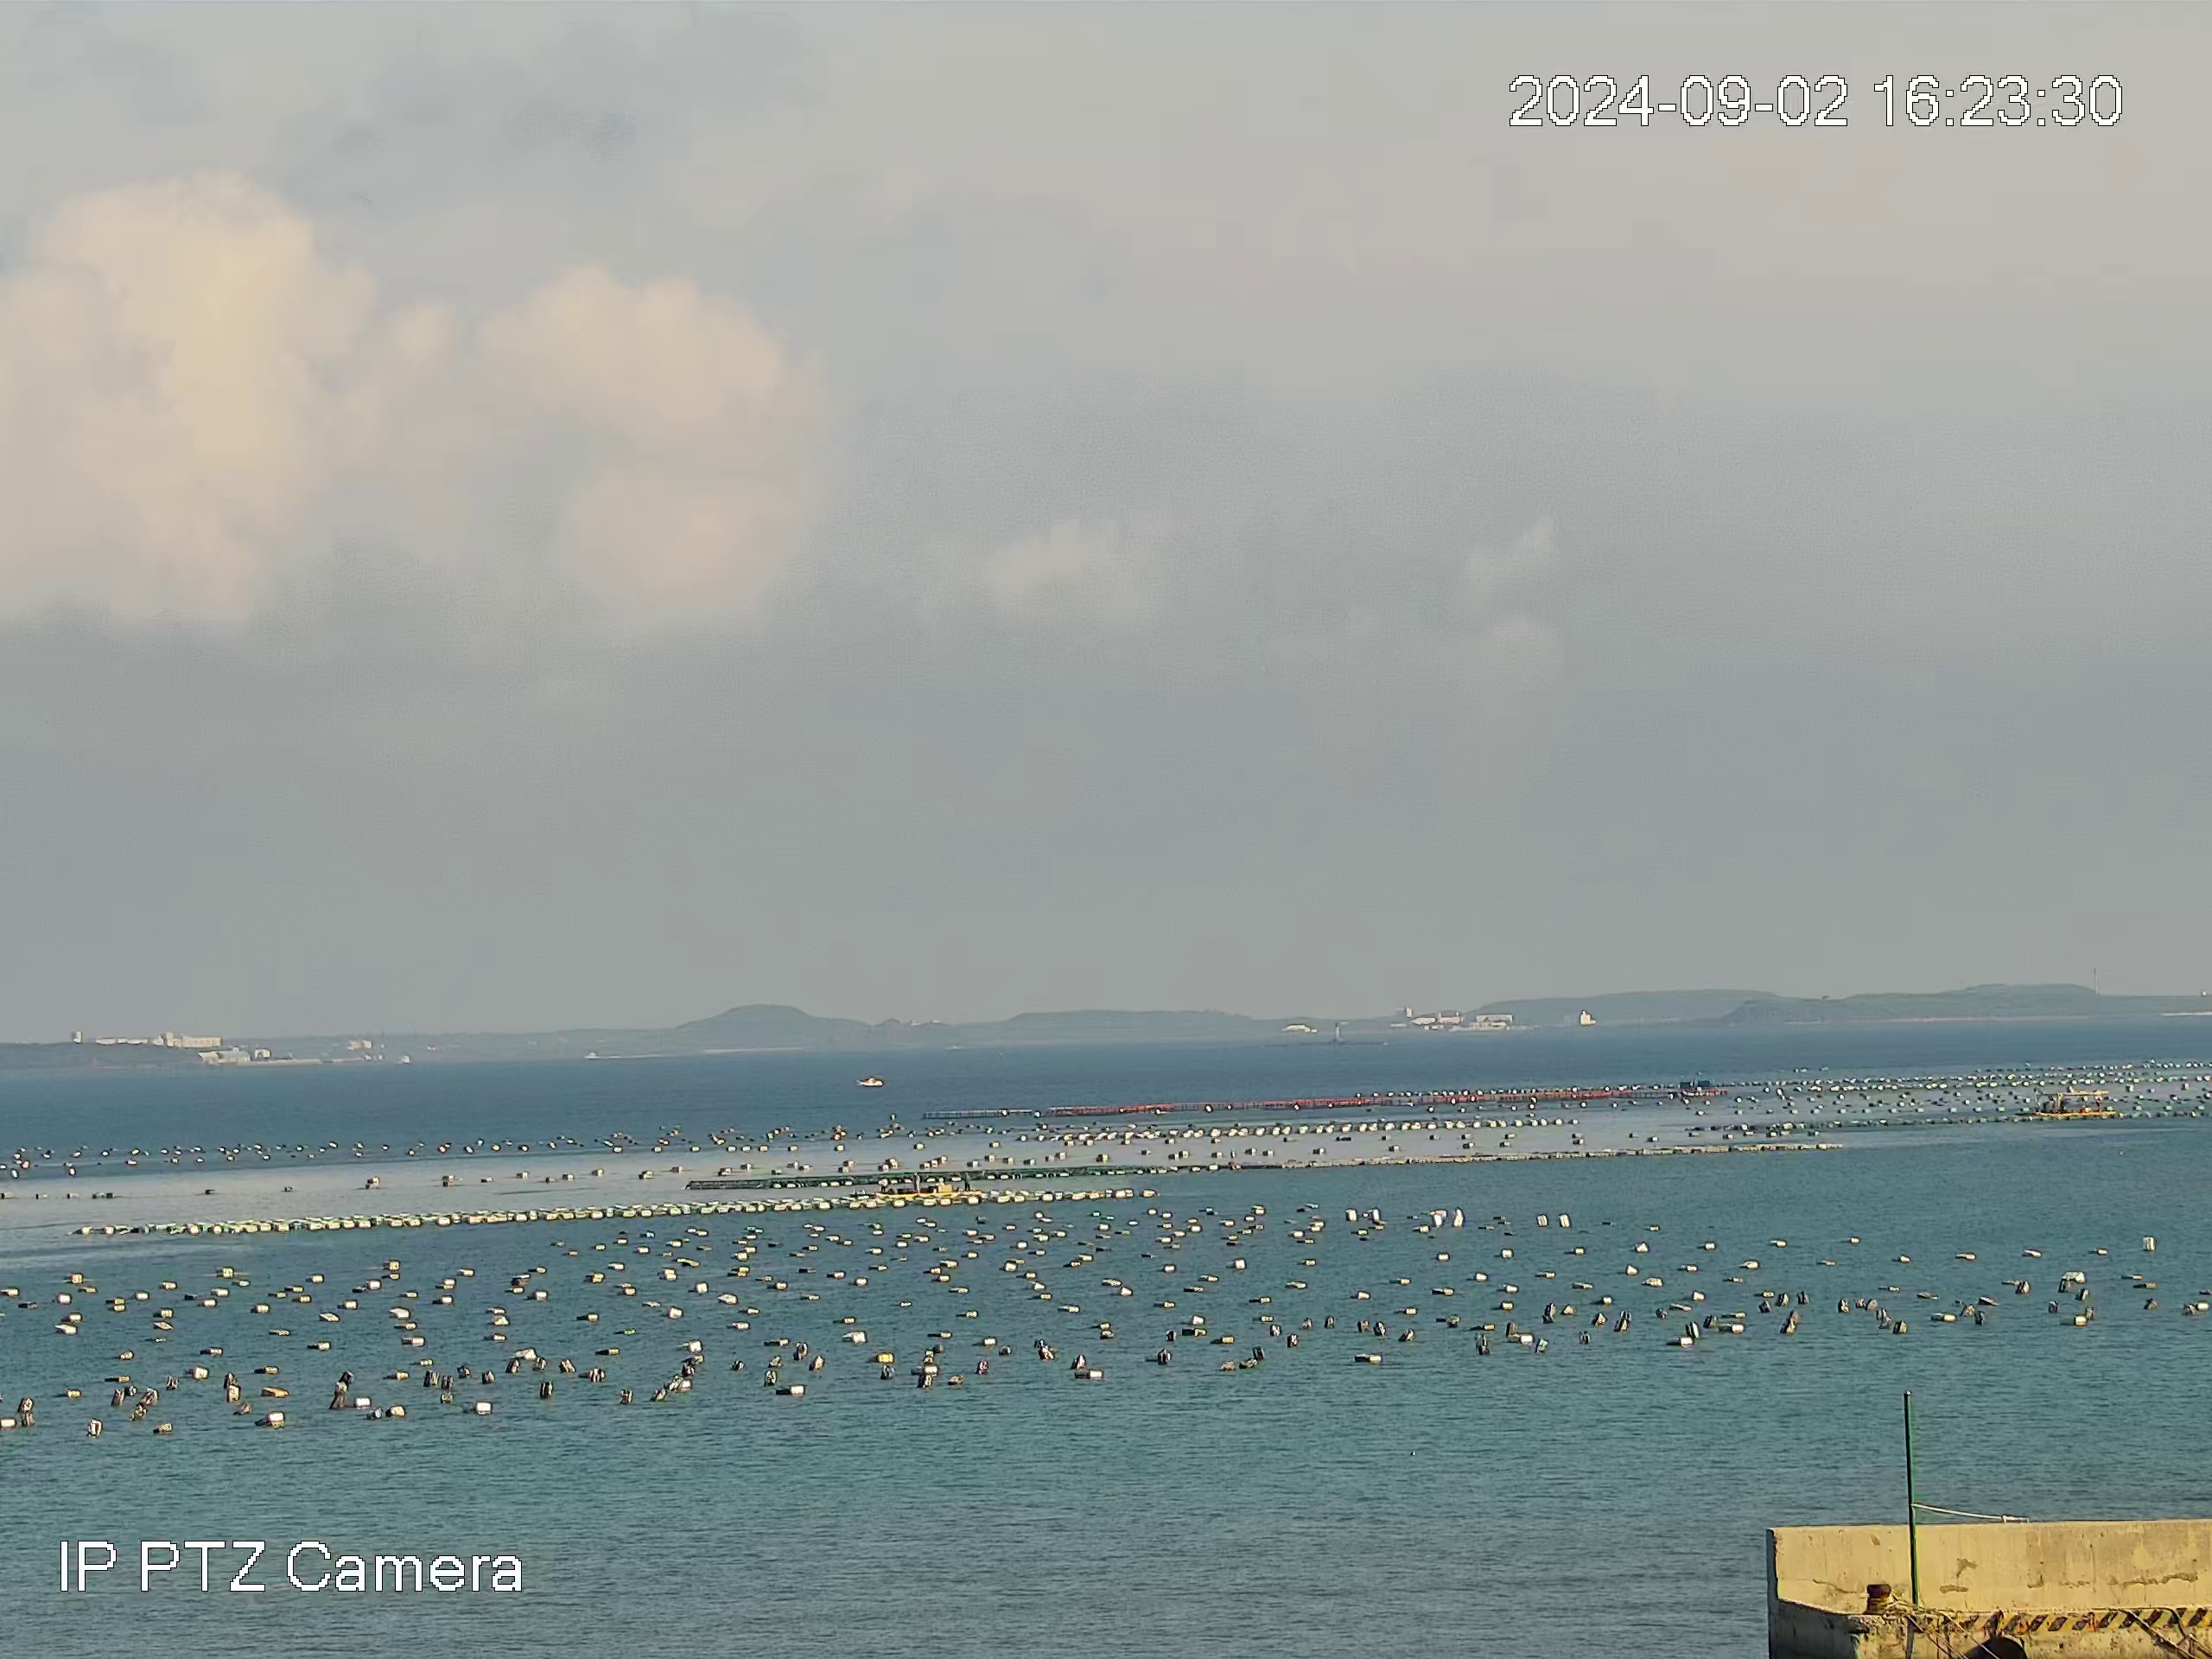boat: (874, 1171, 982, 1199), (2031, 1089, 2116, 1117), (853, 1075, 885, 1087)
